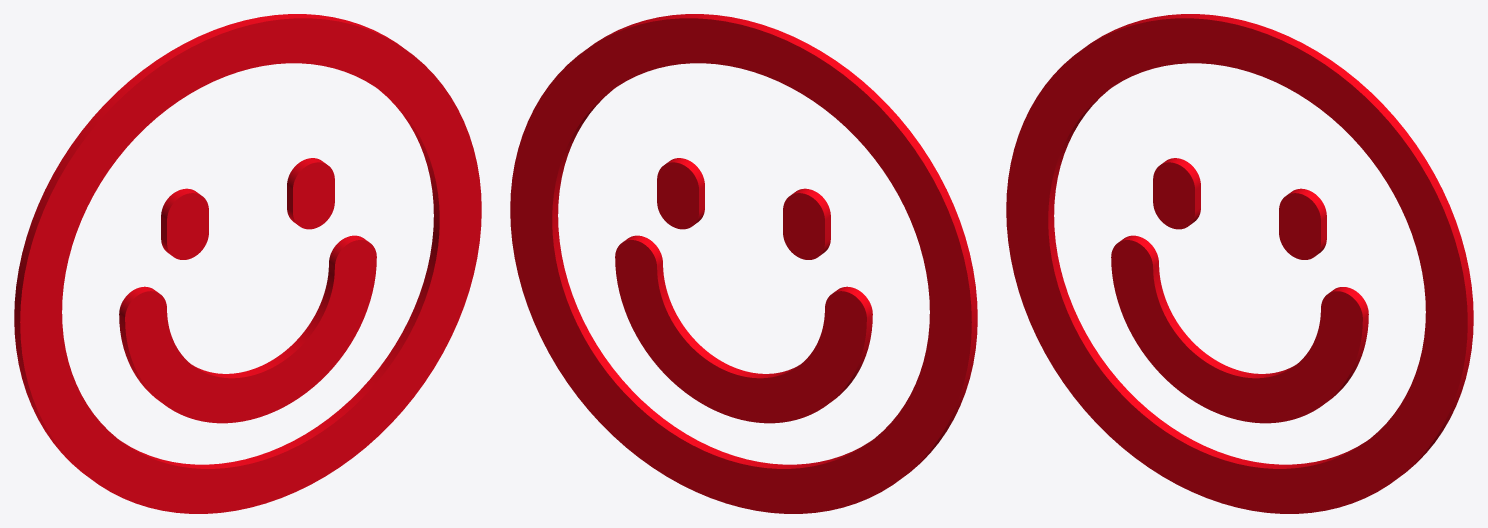
Rendered from smile5.glb.
3 views of the same model, side by side, from view 1: azimuth 30°, elevation 25°; view 2: azimuth 150°, elevation 25°; view 3: azimuth 330°, elevation 25° (orthographic).
Visible parts, largest first — view 1: Curve; view 2: Curve; view 3: Curve.
Part boxes in pixels (bbox=[...]): Curve: bbox=[14, 14, 481, 513]; Curve: bbox=[510, 14, 977, 513]; Curve: bbox=[1006, 14, 1473, 513].
Bounding box in the file's own units: 7.02 × 7.01 × 0.1559.
